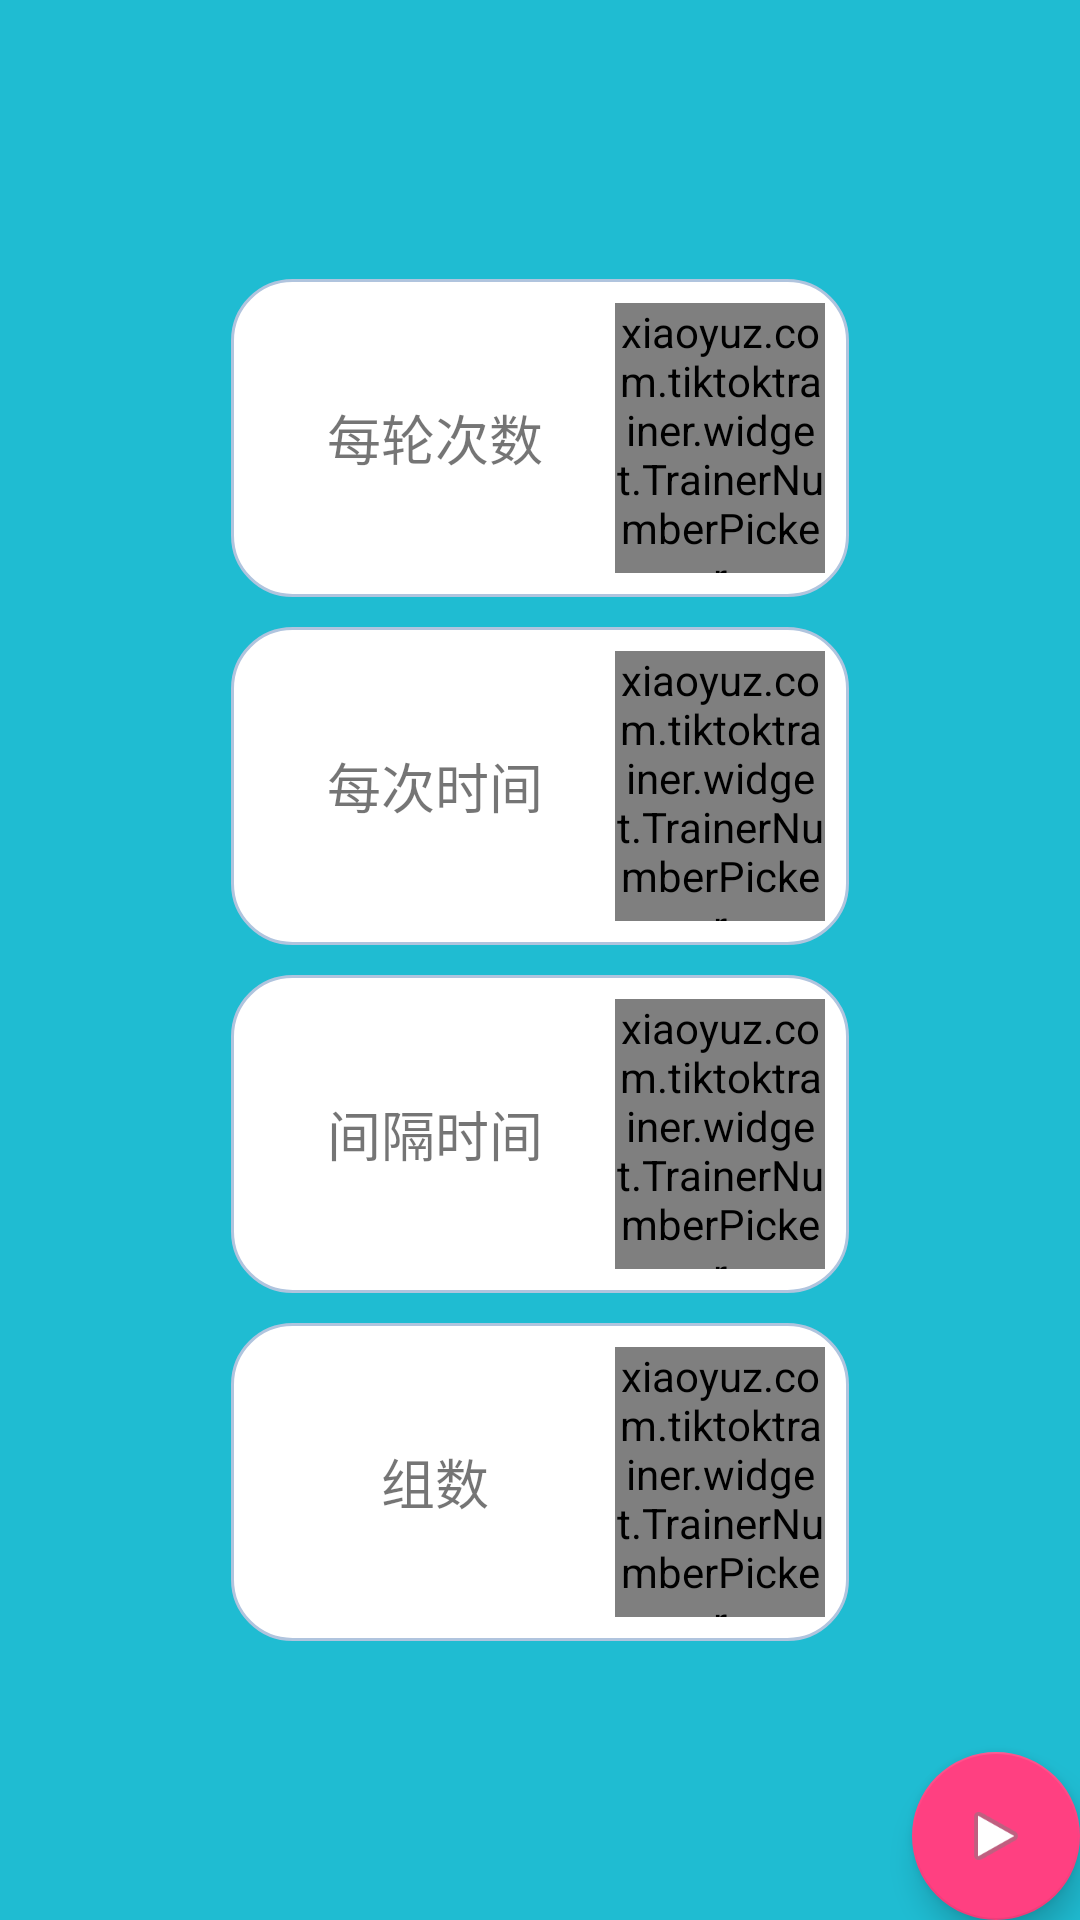

Named icons in this screenshot (1080px x 1920px) and their bounding boxes, (x1, y1, x2, y2):
play: (912, 1752, 1080, 1920)
